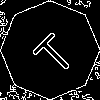T: (25, 25, 79, 79)
